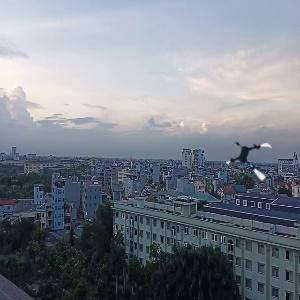drone: (227, 133, 279, 185)
